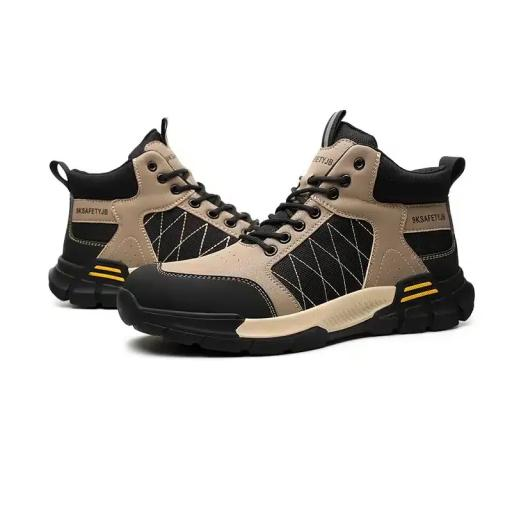safety_boots: (25, 112, 512, 368)
